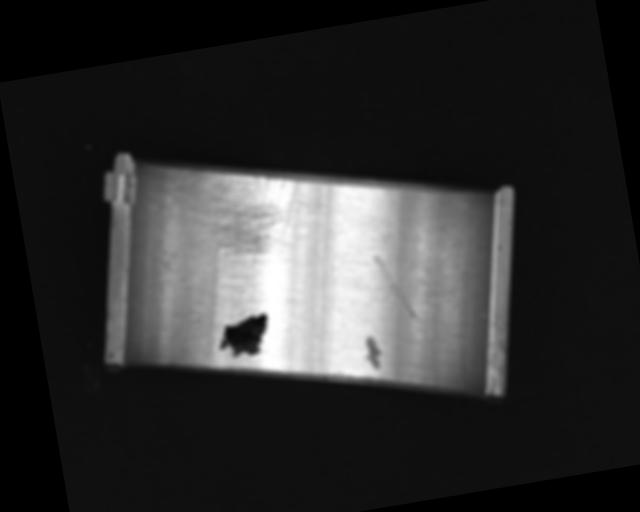blot: (213, 311, 274, 362)
bruise: (361, 334, 385, 372)
nick: (304, 242, 348, 372), (372, 247, 421, 330)
scratch: (169, 149, 312, 280)
